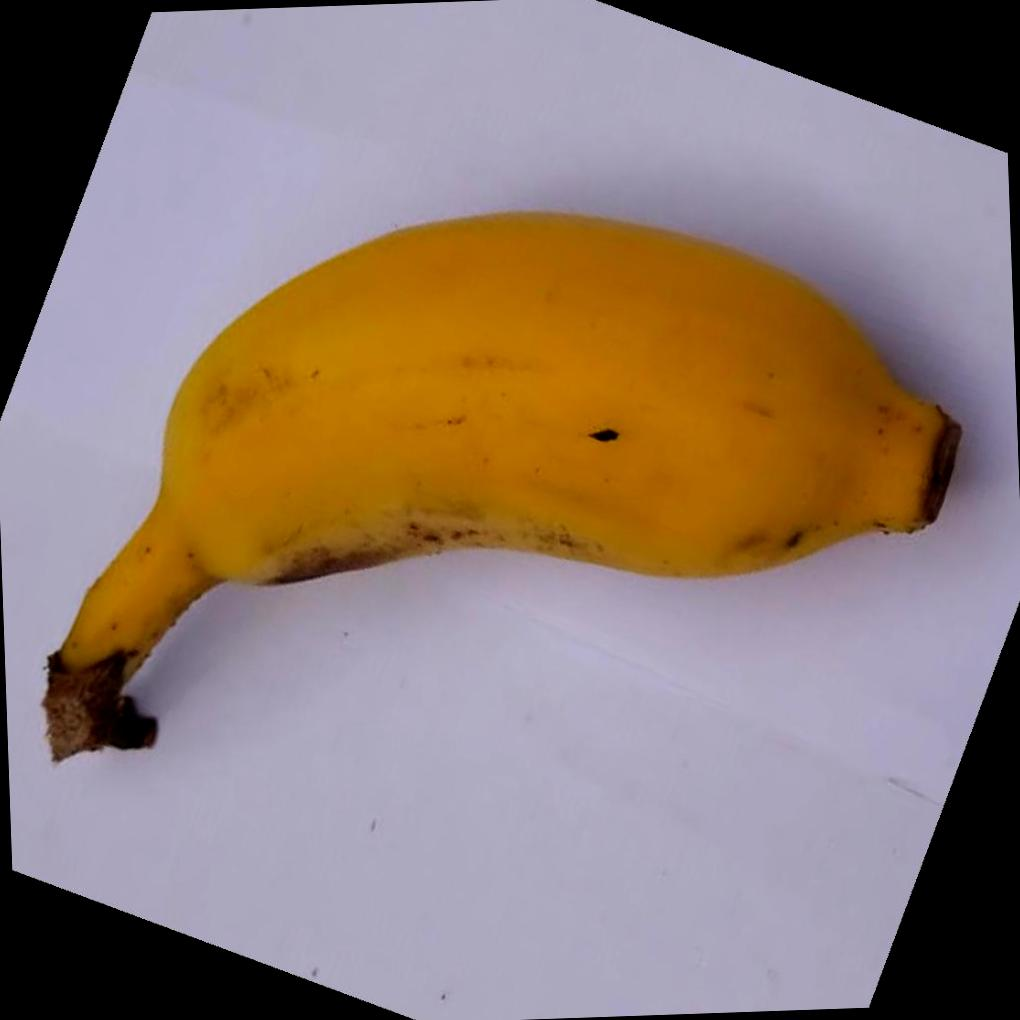Banana Ripe: (76, 166, 974, 852)
